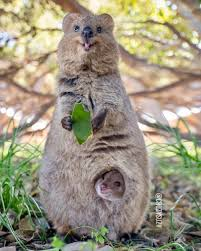quokka: (35, 8, 153, 246)
